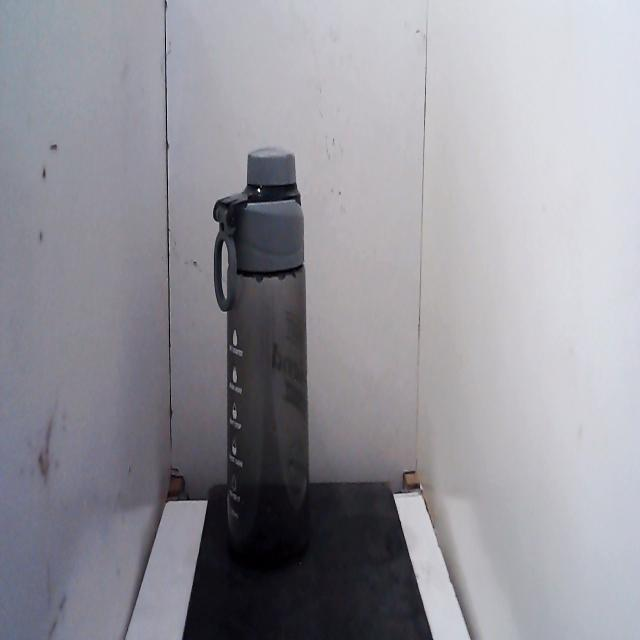plastico: (208, 135, 324, 578)
